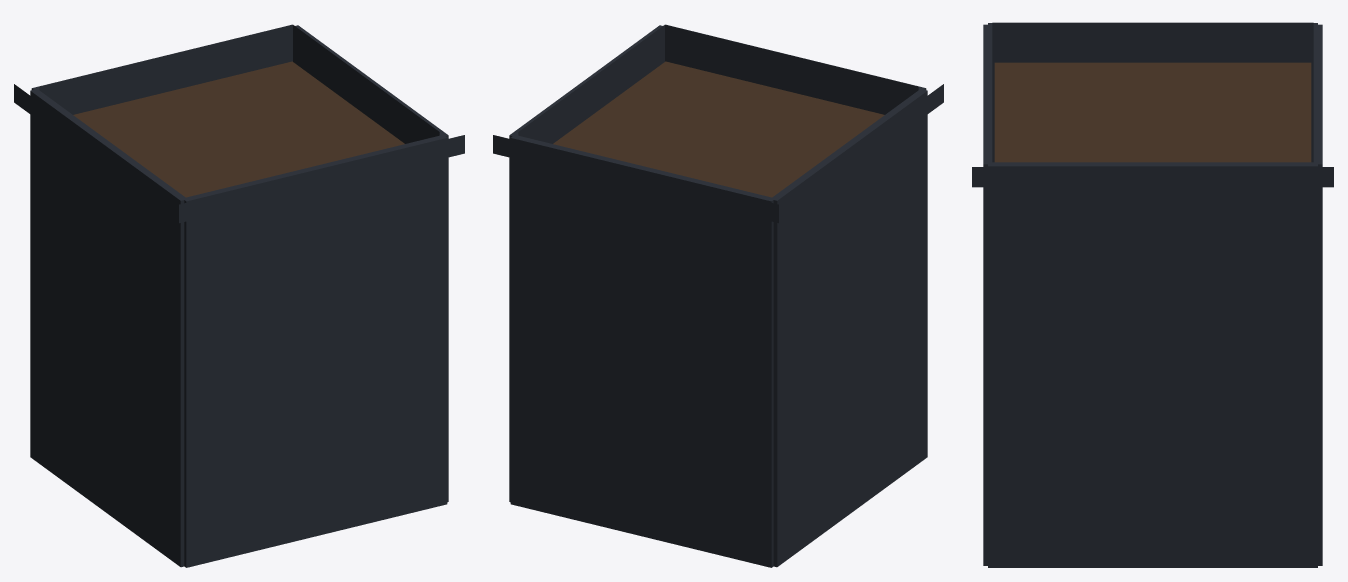
Rendered from pot-family--square-3.6l.glb.
The picture shows the model from 3 angles, left to right: view 1: azimuth 30°, elevation 25°; view 2: azimuth 150°, elevation 25°; view 3: azimuth 270°, elevation 25°; orthographic projection. The views are drawn at different scales.
Parts seen in each view (by area): view 1: pot_body, soil_surface, pot_rim; view 2: pot_body, soil_surface, pot_rim; view 3: pot_body, soil_surface, pot_rim.
Part boxes in pixels (x1,y1,x2,y2): pot_body: [30, 24, 448, 567]; soil_surface: [73, 61, 404, 197]; pot_rim: [14, 25, 464, 223]; pot_body: [509, 24, 927, 567]; soil_surface: [553, 61, 884, 197]; pot_rim: [493, 25, 943, 223]; pot_body: [983, 23, 1322, 567]; soil_surface: [994, 62, 1311, 162]; pot_rim: [972, 22, 1333, 187].
Bounding box in the file's own units: 0.16 × 0.202 × 0.16.
